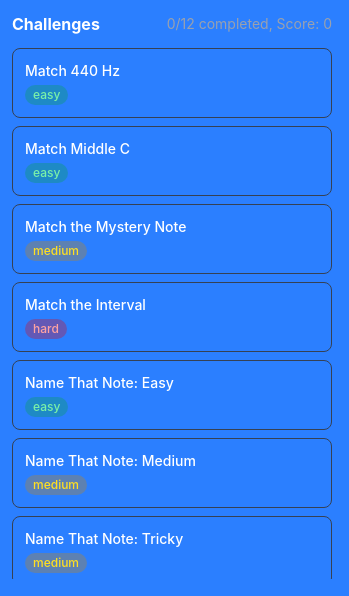
it: ChallengePanel › returns to challenge list on skip
The image size is (349, 596).
Click the list item with test id "challenge-item-match-440": [172, 83] box [12,48,332,118]
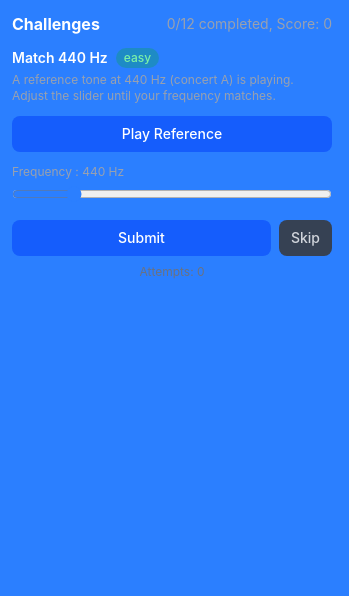
Check: the element with test id "active-challenge" is shown, box [12,48,332,280]
Click the button with test id "skip-btn": [305, 238] box [279,220,332,256]
(page scrolled)
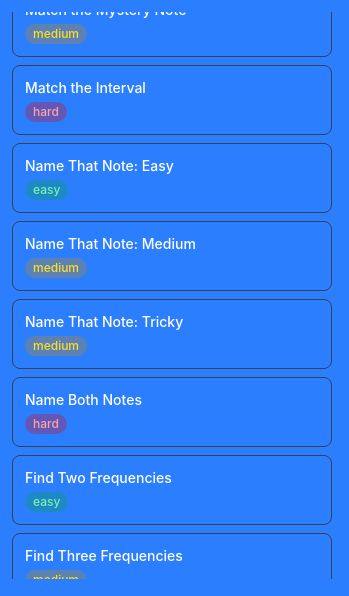
Check: the element with test id "challenge-list" is shown
